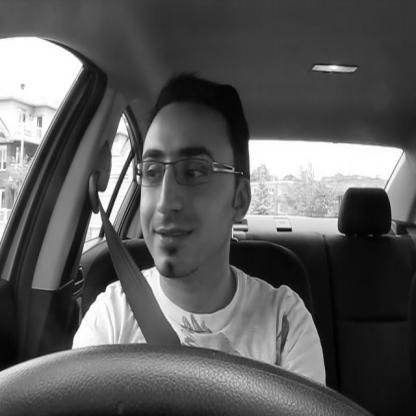seatbelt: (86, 63, 255, 354)
